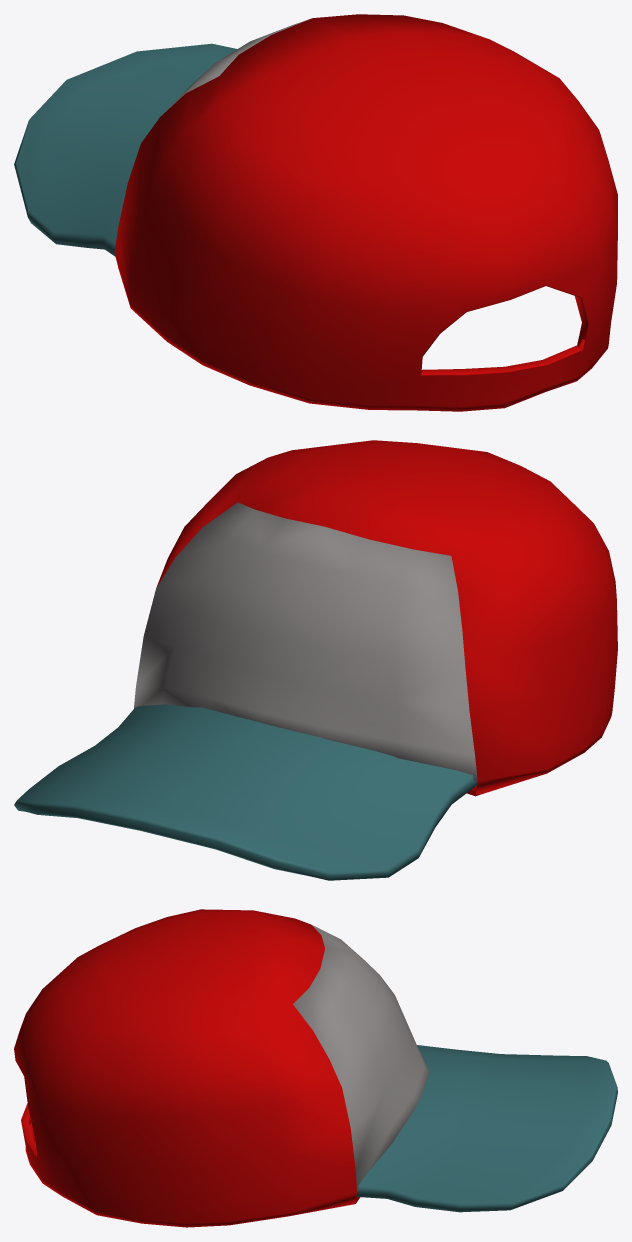
File: Gorra.fbx
The picture shows the model from 3 angles, top to bottom: view 1: azimuth 30°, elevation 25°; view 2: azimuth 150°, elevation 25°; view 3: azimuth 270°, elevation 25°; orthographic projection. The views are drawn at different scales.
Visible parts, largest first — view 1: polySurface3_VRayMtl3_0; view 2: polySurface3_VRayMtl3_0; view 3: polySurface3_VRayMtl3_0.
Part boxes in pixels (x1,y1,x2,y2): polySurface3_VRayMtl3_0: [14, 14, 617, 411]; polySurface3_VRayMtl3_0: [14, 440, 617, 880]; polySurface3_VRayMtl3_0: [14, 909, 617, 1227].
Bounding box in the file's own units: 32.48 × 20.49 × 51.41.
